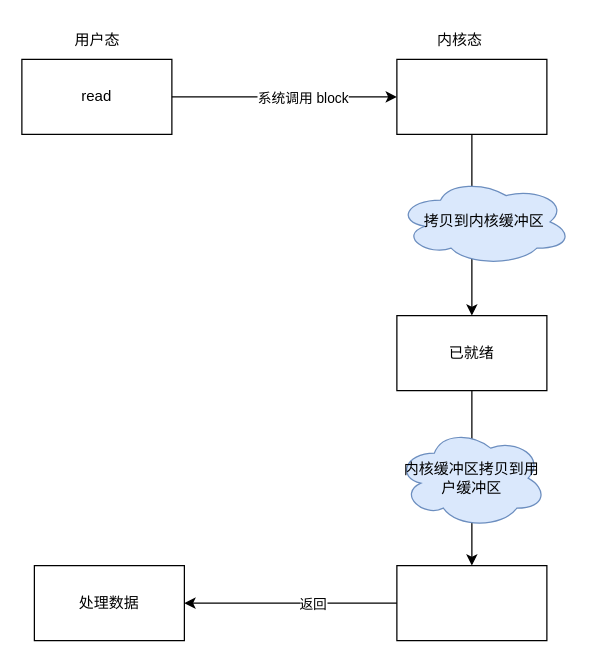
The diagram is 594 pixels wide and 663 high, and some of its shapes have lost their labels. Here are the shapes that lost their labels. From the top down, the centre of each, then its label:
At (x=471, y=96): "未就绪".
At (x=471, y=602): "拷贝结束".
